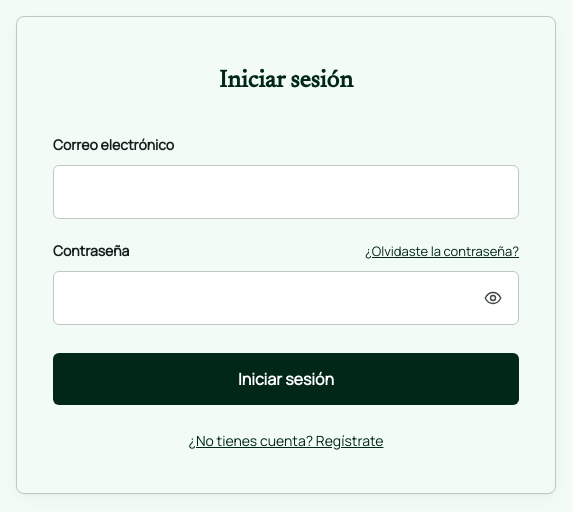
Scenario: Login Page - password visibility toggle › reveals password in plain text on toggle click (C2)
In the password field labelled "Contraseña": [286, 298] box top-left (53, 271), bottom-right (519, 325), type "MiSecreto123"
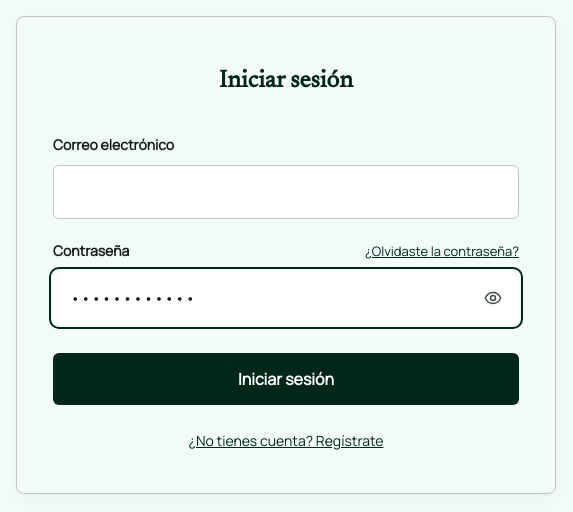
Click the button named "Mostrar contraseña": [493, 298] box top-left (479, 284), bottom-right (507, 312)
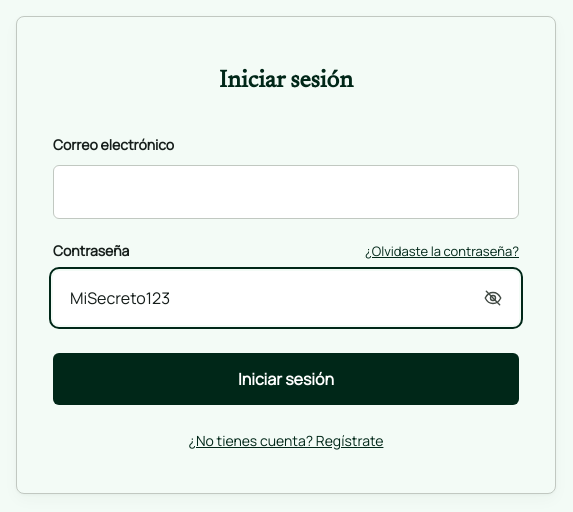
Expected: the field labelled "Contraseña" shows its text, top-left (53, 271), bottom-right (519, 325)
